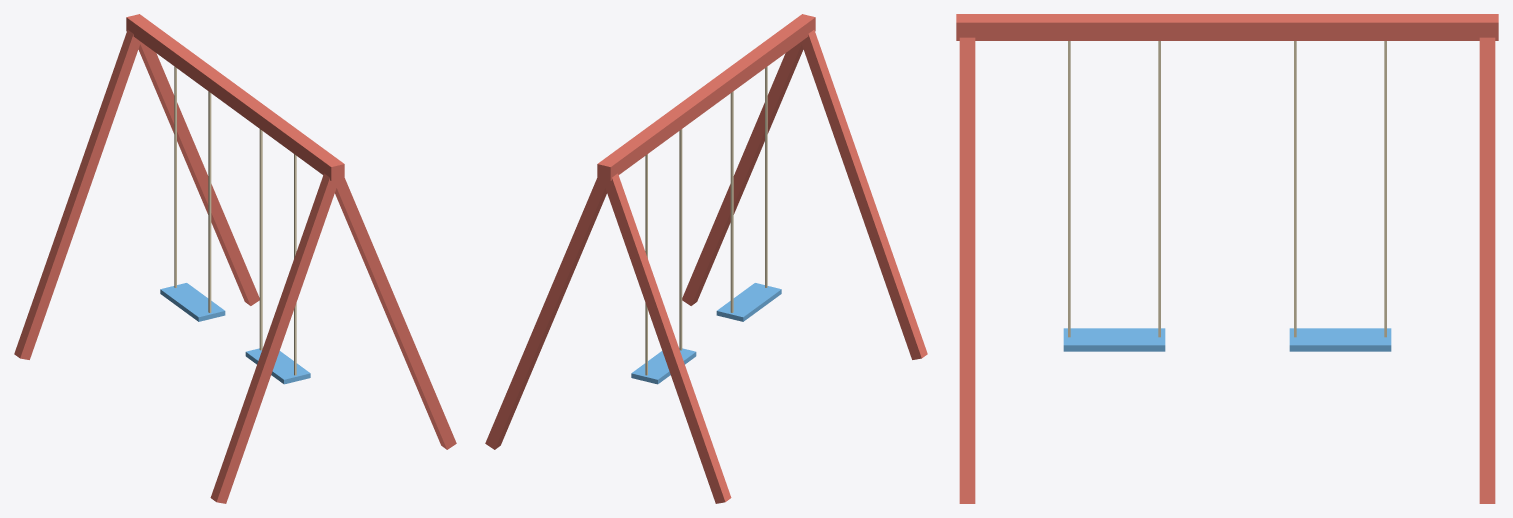
File: swing_set.glb
3 renders of one model, left to right at view 1: azimuth 30°, elevation 25°; view 2: azimuth 150°, elevation 25°; view 3: azimuth 270°, elevation 25°, orthographic. The views are drawn at different scales.
Size of the model in its own units: 1.62 by 2.02 by 2.4.
